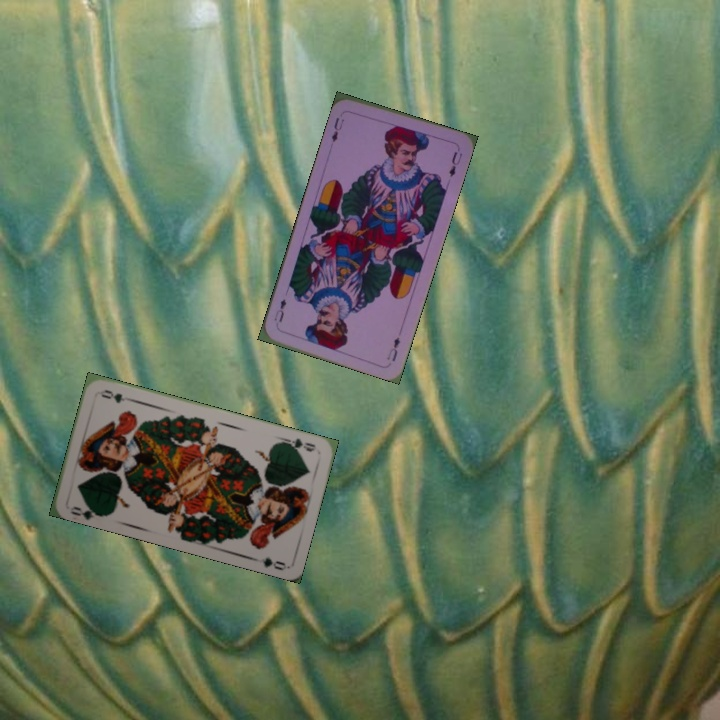EU: (327, 109, 347, 145), (383, 333, 403, 364)
GO: (66, 500, 106, 521), (279, 434, 318, 455)
